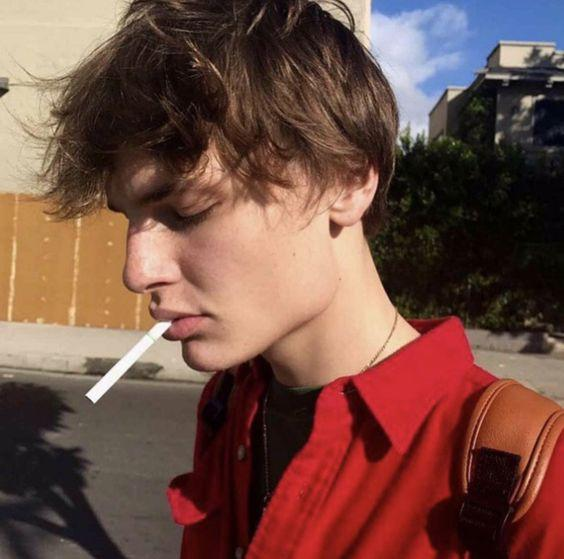cigarette: (85, 320, 173, 405)
